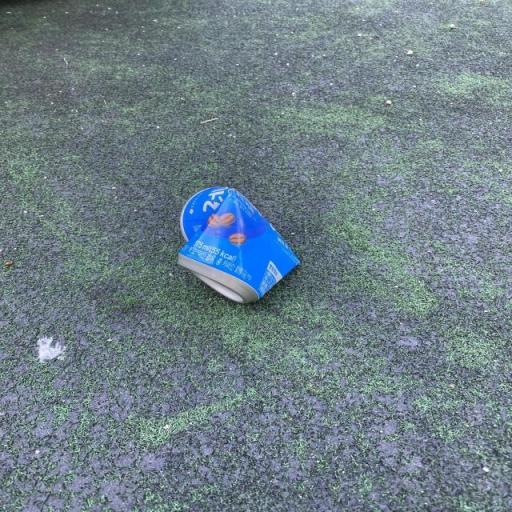metal: (155, 163, 322, 345)
